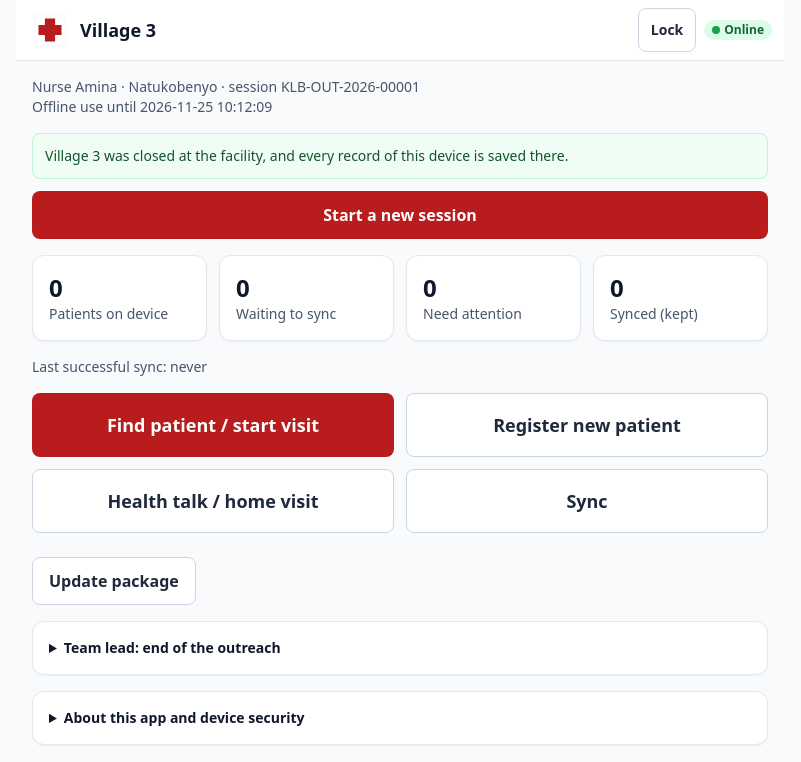
Test: fix round 1 in the app (jsdom) › F1: a Closed session with every record final offers Start a new session, which leads to the session picker
Click the button "Start a new session" at (400, 215), box top-left (32, 191), bottom-right (768, 239)
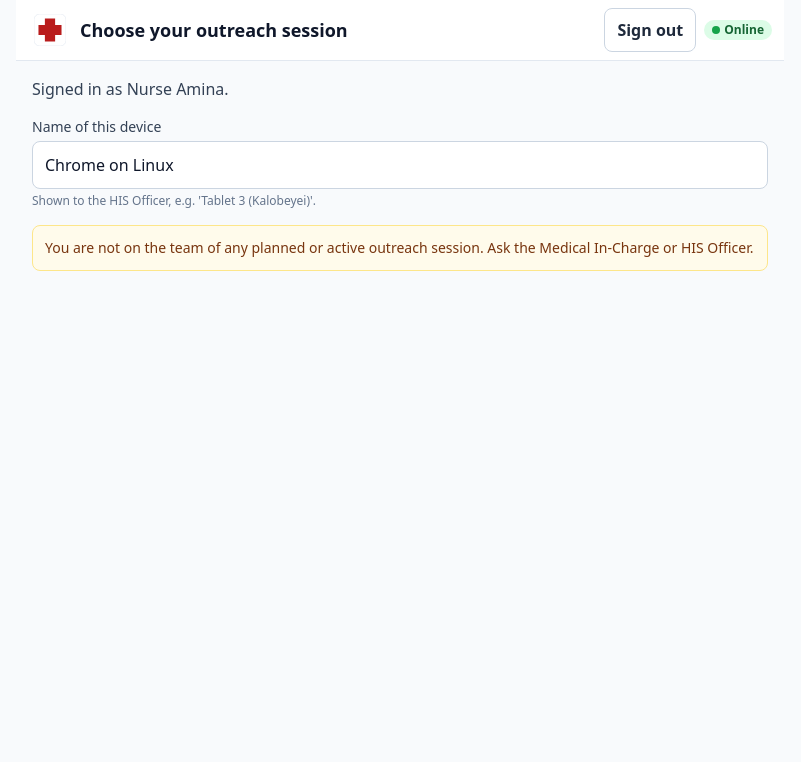
Now the heading "Choose your outreach session" is shown, box top-left (80, 18), bottom-right (348, 42)
